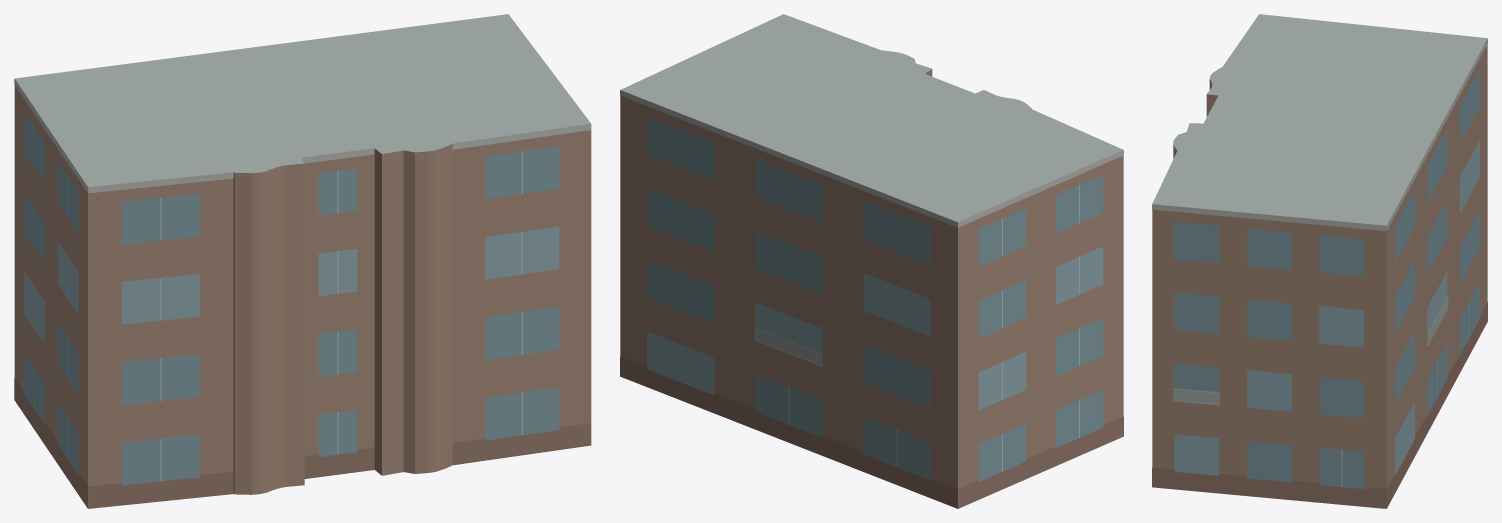
File: survey-upis-32665390.glb
The picture shows the model from 3 angles, left to right: view 1: azimuth 30°, elevation 25°; view 2: azimuth 150°, elevation 25°; view 3: azimuth 270°, elevation 25°; orthographic projection. The views are drawn at different scales.
Parts seen in each view (by area): view 1: survey-upis-32665390.tmp; view 2: survey-upis-32665390.tmp; view 3: survey-upis-32665390.tmp.
Boxes of the visible parts, left/top/right/bottom form: survey-upis-32665390.tmp: left=14, top=14, right=591, bottom=508; survey-upis-32665390.tmp: left=620, top=14, right=1123, bottom=508; survey-upis-32665390.tmp: left=1152, top=14, right=1487, bottom=508.
Size of the model in its own units: 20.37 by 12.7 by 13.65.
